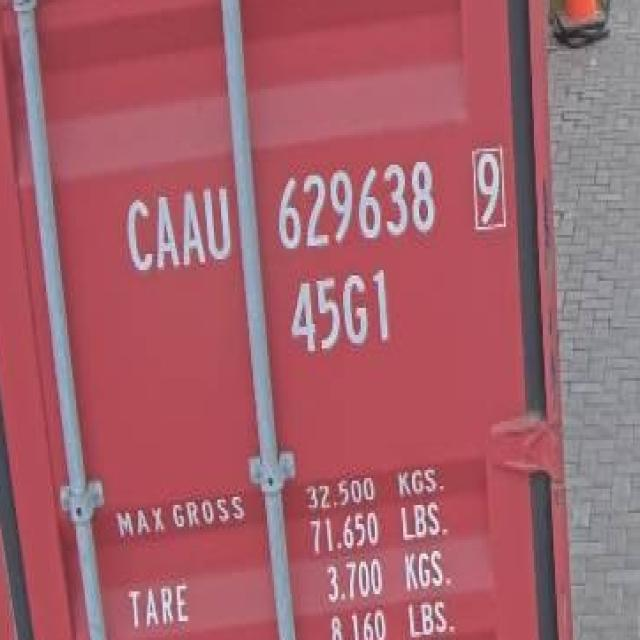dv: (464, 140, 512, 240)
owner: (121, 177, 237, 286)
serial: (262, 149, 443, 256)
size: (284, 265, 401, 358)
